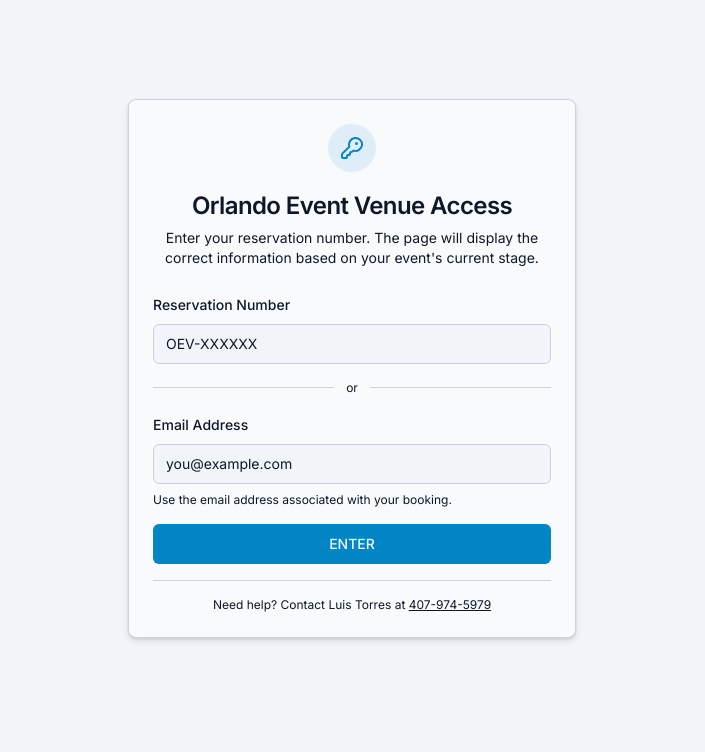
Scenario: AccessCode — error states from RPC › sends the reservation number to the server verbatim when it carries a # or no dash
Type "#OEVTEST01" into the field labelled "Reservation Number" at coordinates (352, 344), box [153,324,551,364]
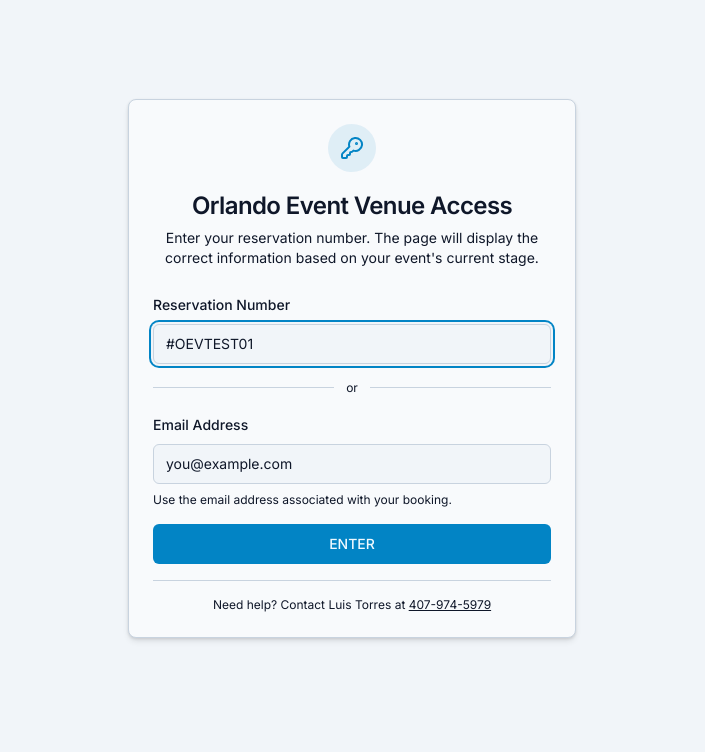
Click the button "ENTER" at coordinates (352, 544), box [153,524,551,564]
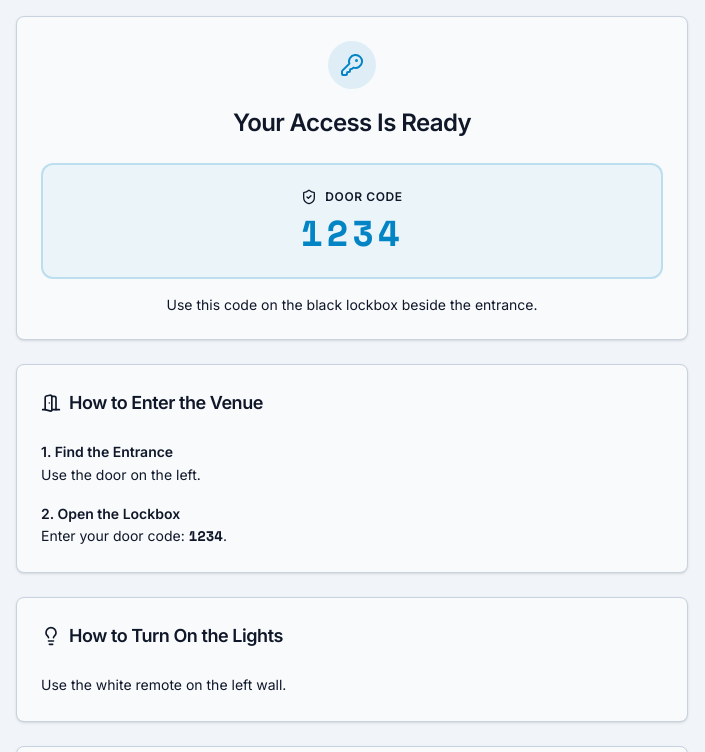
Result: the text "Your Access Is Ready" is shown at [233,108,471,137]
